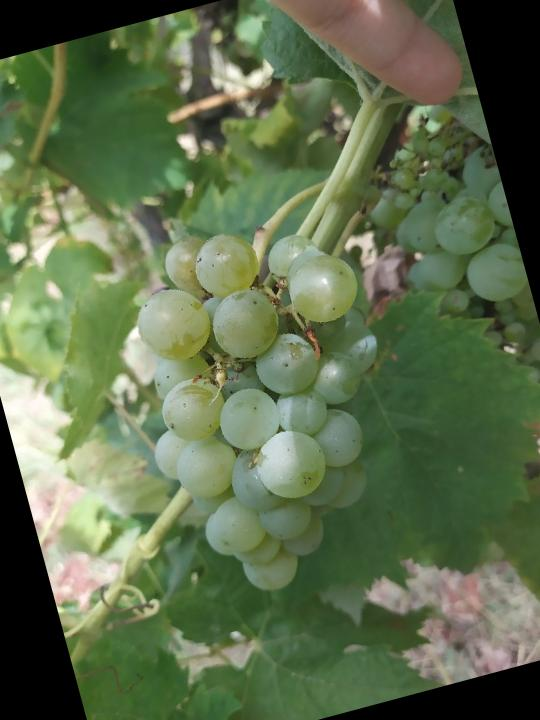grape: (98, 193, 436, 616)
